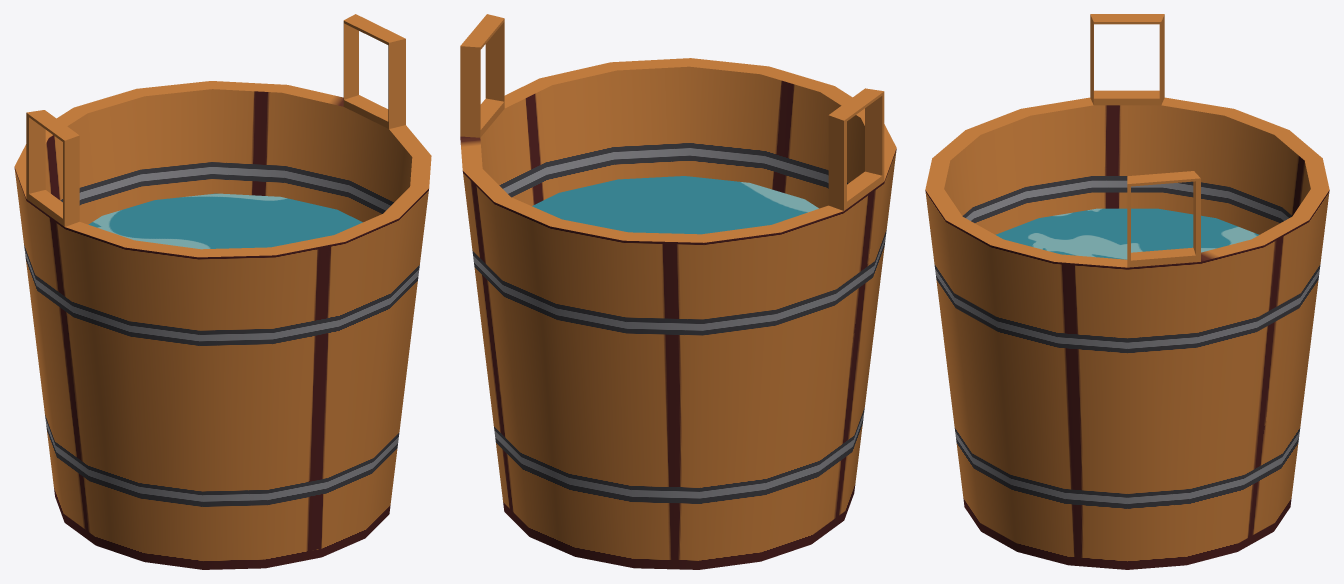
The model's file is WaxWorld_Bucket_Complete.fbx.
3 renders of one model, left to right at view 1: azimuth 30°, elevation 25°; view 2: azimuth 150°, elevation 25°; view 3: azimuth 270°, elevation 25°, orthographic. The views are drawn at different scales.
Visible parts, largest first — view 1: Cylinder001, Cylinder002, Object001; view 2: Cylinder001, Cylinder002, Object001; view 3: Cylinder001, Cylinder002, Object001.
Part boxes in pixels (left/top/right/bottom): Cylinder001: left=14, top=81, right=431, bottom=569; Cylinder002: left=88, top=193, right=362, bottom=249; Object001: left=26, top=14, right=405, bottom=226; Cylinder001: left=460, top=58, right=896, bottom=569; Cylinder002: left=532, top=176, right=818, bottom=234; Object001: left=460, top=14, right=884, bottom=210; Cylinder001: left=925, top=97, right=1329, bottom=569; Cylinder002: left=995, top=208, right=1259, bottom=259; Object001: left=1090, top=14, right=1200, bottom=267.
Size of the model in its own units: 22.74 by 25.08 by 22.84.
Materials: 3 (3 with a texture image).
